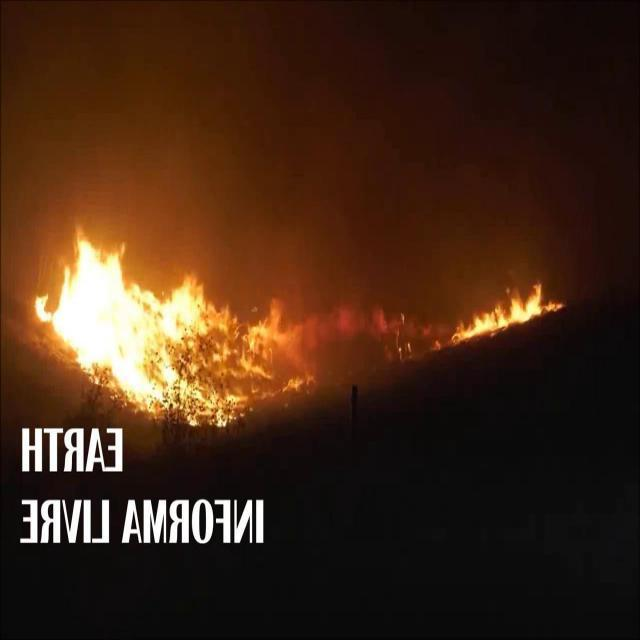Fire: (34, 210, 321, 430), (451, 278, 566, 347)
